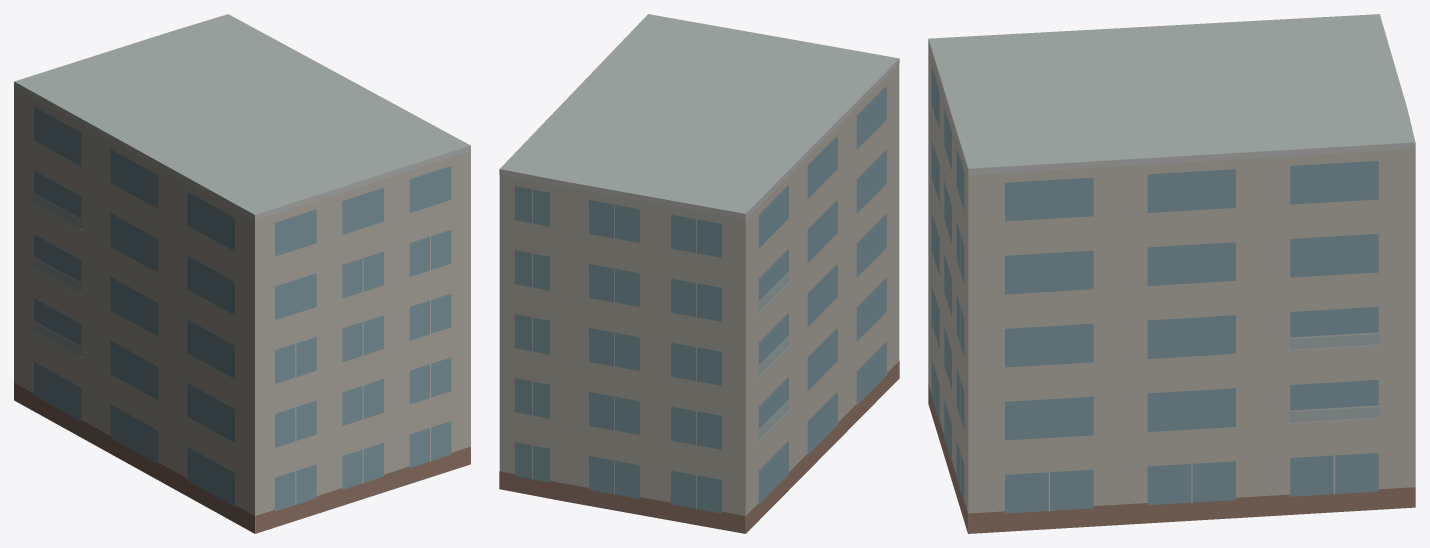
File: survey-upis-32931460.glb
3 views of the same model, side by side, from view 1: azimuth 30°, elevation 25°; view 2: azimuth 150°, elevation 25°; view 3: azimuth 270°, elevation 25° (orthographic). The views are drawn at different scales.
Parts seen in each view (by area): view 1: survey-upis-32931460.tmp; view 2: survey-upis-32931460.tmp; view 3: survey-upis-32931460.tmp.
Part boxes in pixels (<box>): survey-upis-32931460.tmp: <box>14,14,470,533</box>; survey-upis-32931460.tmp: <box>499,14,899,533</box>; survey-upis-32931460.tmp: <box>928,14,1415,533</box>.
Size of the model in its own units: 12.92 by 14.2 by 17.18.
